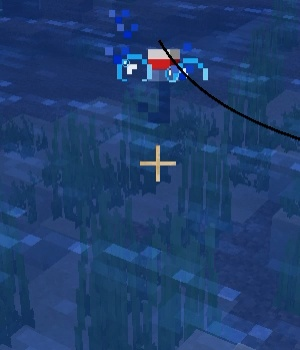up: (137, 45, 190, 123)
